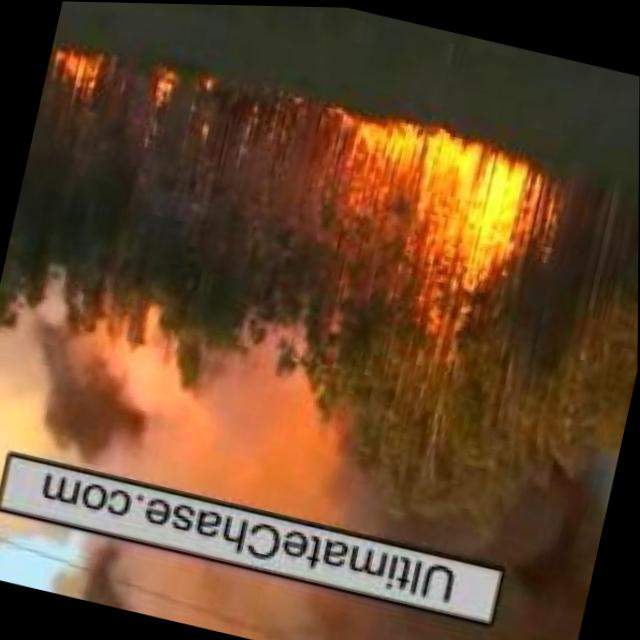Fire: (318, 106, 538, 271), (44, 43, 104, 100), (141, 61, 185, 110)
